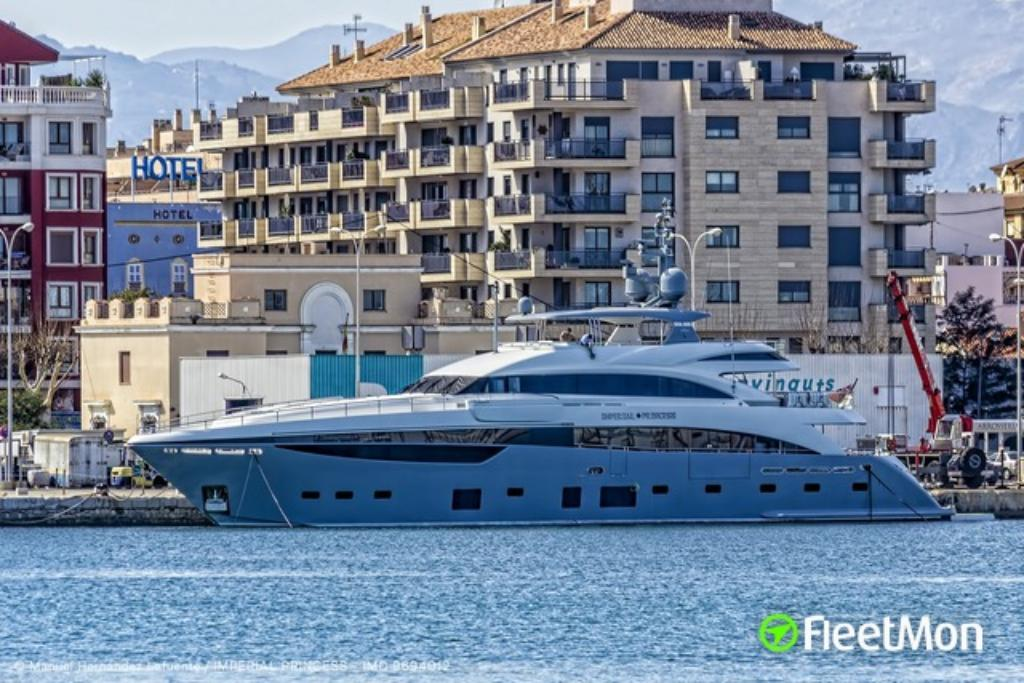PassengerShip: (125, 199, 955, 530)
